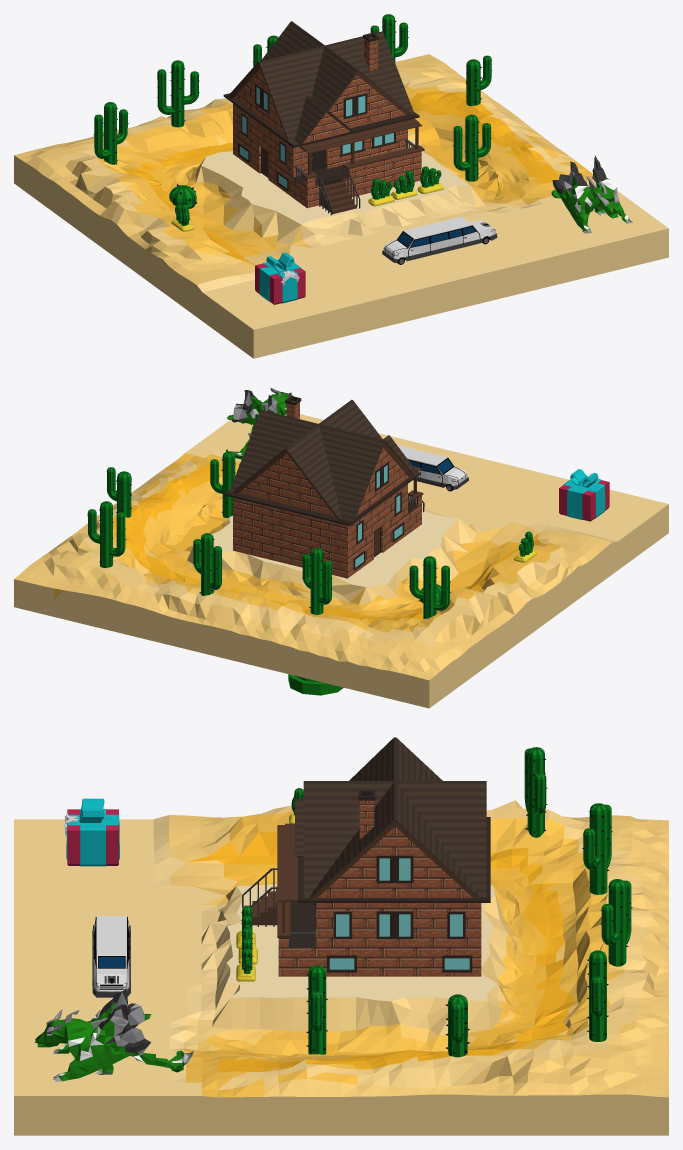
3 views of the same model, one above another, from view 1: azimuth 30°, elevation 25°; view 2: azimuth 150°, elevation 25°; view 3: azimuth 270°, elevation 25° (orthographic). The views are drawn at different scales.
Visible parts, largest first — view 1: Cube.001, Cube.469, VEHICLES_LIMOUSINE, ANIMAL_DRAGON, OBJRANDOM_GIANT_PRESENT, Cylinder.044, Cylinder.037, Cylinder.045, Cylinder.038, Cylinder.042, Cylinder.041, Cylinder.039 (+2 smaller); view 2: Cube.001, Cube.469, OBJRANDOM_GIANT_PRESENT, VEHICLES_LIMOUSINE, Cylinder.042, Cylinder.045, Cylinder.044, Cylinder.043, ANIMAL_DRAGON, Cylinder.037, Cylinder.038, UNDERGROUND_PIPES; view 3: Cube.001, Cube.469, ANIMAL_DRAGON, OBJRANDOM_GIANT_PRESENT, VEHICLES_LIMOUSINE, Cylinder.043, Cylinder.044, Cylinder.045, Cylinder.037, Cylinder.042, Cylinder.038, Cylinder.041.
Part boxes in pixels (bbox=[...]): Cube.001: bbox=[14, 54, 668, 358]; Cube.469: bbox=[223, 21, 424, 215]; VEHICLES_LIMOUSINE: bbox=[382, 216, 497, 264]; ANIMAL_DRAGON: bbox=[551, 155, 632, 233]; OBJRANDOM_GIANT_PRESENT: bbox=[255, 252, 305, 304]; Cylinder.044: bbox=[157, 60, 199, 127]; Cylinder.037: bbox=[453, 114, 491, 181]; Cylinder.045: bbox=[93, 102, 128, 164]; Cylinder.038: bbox=[466, 55, 491, 106]; Cylinder.042: bbox=[370, 14, 408, 62]; Cylinder.041: bbox=[417, 166, 443, 194]; Cylinder.039: bbox=[368, 178, 394, 206]; Cube.001: bbox=[14, 414, 668, 708]; Cube.469: bbox=[224, 396, 424, 578]; OBJRANDOM_GIANT_PRESENT: bbox=[559, 469, 609, 521]; VEHICLES_LIMOUSINE: bbox=[397, 445, 468, 491]; Cylinder.042: bbox=[87, 501, 126, 567]; Cylinder.045: bbox=[409, 556, 450, 618]; Cylinder.044: bbox=[302, 548, 332, 614]; Cylinder.043: bbox=[193, 533, 222, 595]; ANIMAL_DRAGON: bbox=[226, 387, 293, 459]; Cylinder.037: bbox=[210, 451, 240, 517]; Cylinder.038: bbox=[106, 467, 131, 517]; UNDERGROUND_PIPES: bbox=[288, 674, 343, 695]; Cube.001: bbox=[14, 800, 668, 1135]; Cube.469: bbox=[242, 737, 490, 976]; ANIMAL_DRAGON: bbox=[35, 988, 193, 1081]; OBJRANDOM_GIANT_PRESENT: bbox=[64, 798, 119, 866]; VEHICLES_LIMOUSINE: bbox=[92, 916, 130, 997]; Cylinder.043: bbox=[600, 879, 632, 966]; Cylinder.044: bbox=[582, 803, 612, 894]; Cylinder.045: bbox=[524, 747, 547, 837]; Cylinder.037: bbox=[306, 965, 327, 1054]; Cylinder.042: bbox=[587, 950, 608, 1041]; Cylinder.038: bbox=[445, 994, 469, 1057]; Cylinder.041: bbox=[236, 938, 255, 981].
Bounding box in the file's own units: 4002 × 2210 × 4001.
Materials: 30 (3 with a texture image).
